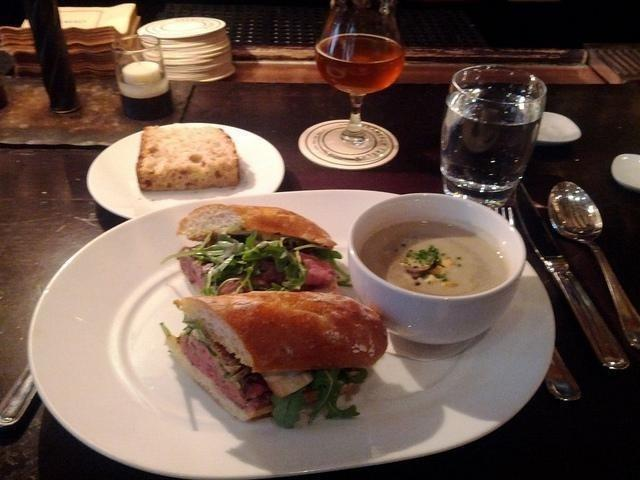glass-normal: (440, 62, 547, 198), (111, 34, 173, 122)
glass-wine: (300, 2, 402, 170)
